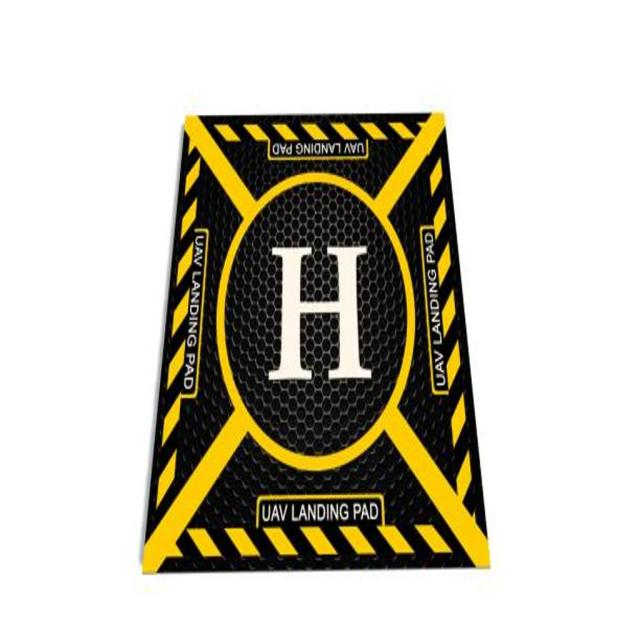helipad: (212, 169, 416, 473)
